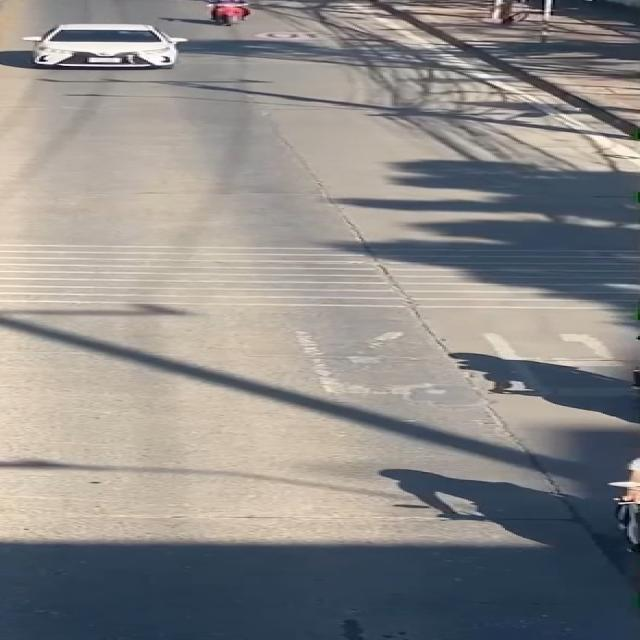car: (13, 19, 202, 84)
